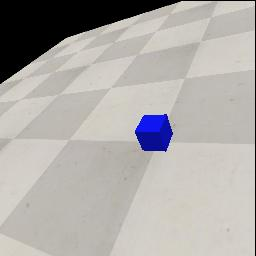box: (135, 114, 173, 152)
